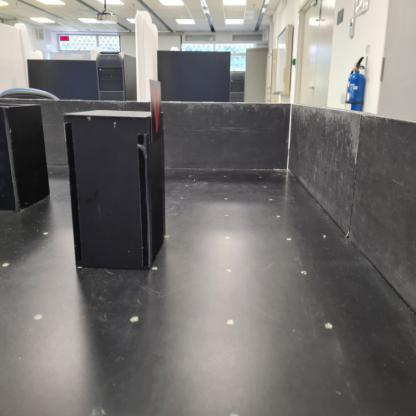v: (149, 77, 164, 143)
